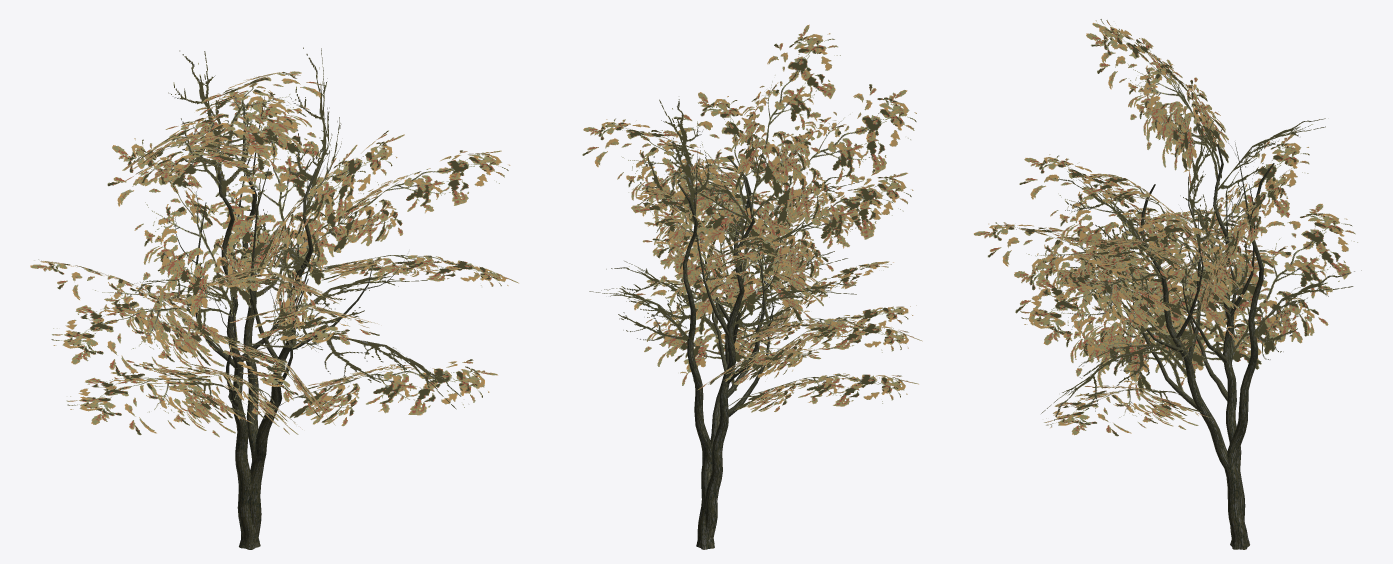
File: tree_small.fbx
3 views of the same model, side by side, from view 1: azimuth 30°, elevation 25°; view 2: azimuth 150°, elevation 25°; view 3: azimuth 270°, elevation 25° (orthographic). The views are drawn at different scales.
Visible parts, largest first — view 1: Treesmall2; view 2: Treesmall2; view 3: Treesmall2.
Boxes of the visible parts, x1,y1,x2,y2 form: Treesmall2: (30, 47, 518, 549); Treesmall2: (582, 24, 922, 549); Treesmall2: (974, 19, 1361, 549).
Bounding box in the file's own units: 323 × 391 × 292.
